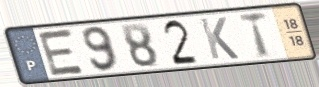2: (162, 18, 201, 67)
8: (121, 22, 160, 69)
9: (81, 24, 121, 73)
E: (36, 27, 88, 78)
K: (197, 16, 242, 61)
T: (237, 10, 272, 60)
